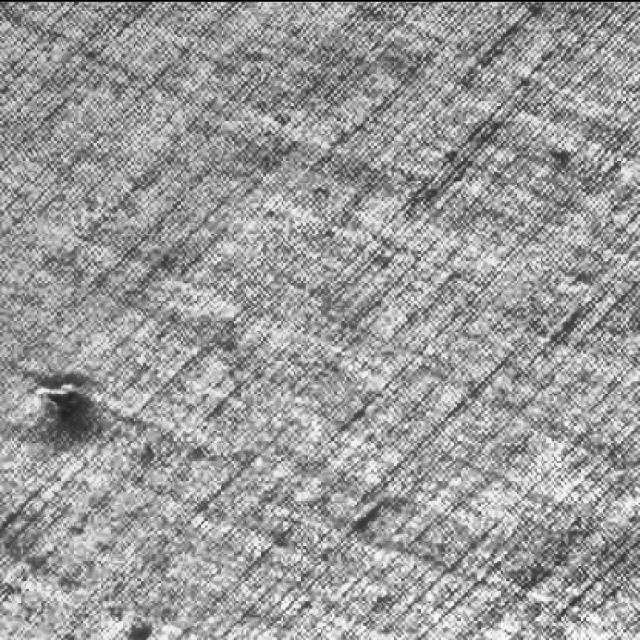objects: (22, 364, 102, 438)
